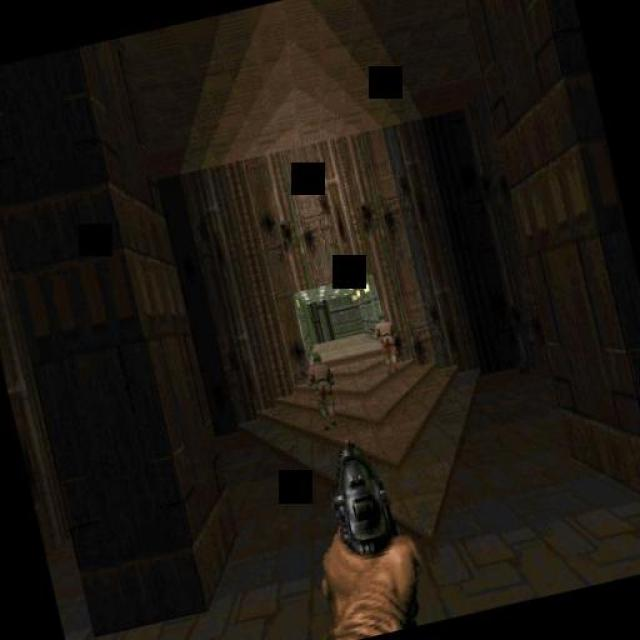gun: (317, 430, 413, 590)
